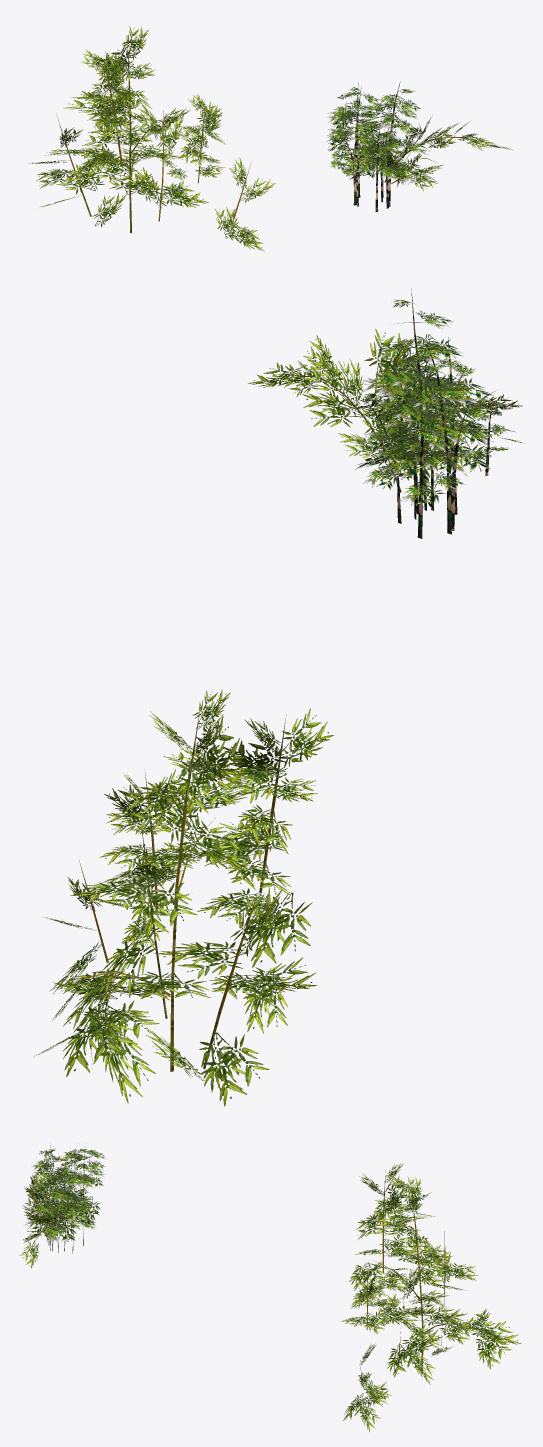
The model's file is S_Tree_3100_006.FBX.
3 views of the same model, one above another, from view 1: azimuth 30°, elevation 25°; view 2: azimuth 150°, elevation 25°; view 3: azimuth 270°, elevation 25° (orthographic). The views are drawn at different scales.
Parts seen in each view (by area): view 1: S_Tree_Green002_001, S_Tree_Green004_001, S_Tree_Green003_001; view 2: S_Tree_Green002_001, S_Tree_Green004_001, S_Tree_Green003_001; view 3: S_Tree_Green002_001, S_Tree_Green004_001, S_Tree_Green003_001.
Part boxes in pixels (x1,y1,x2,y2): S_Tree_Green002_001: (28, 26, 275, 251); S_Tree_Green004_001: (326, 82, 430, 211); S_Tree_Green003_001: (358, 117, 512, 190); S_Tree_Green002_001: (33, 689, 333, 1106); S_Tree_Green004_001: (354, 289, 525, 538); S_Tree_Green003_001: (248, 329, 522, 492); S_Tree_Green002_001: (341, 1163, 521, 1431); S_Tree_Green004_001: (25, 1145, 105, 1253); S_Tree_Green003_001: (19, 1174, 79, 1268).
Size of the model in its own units: 1933 by 2015 by 3381.
